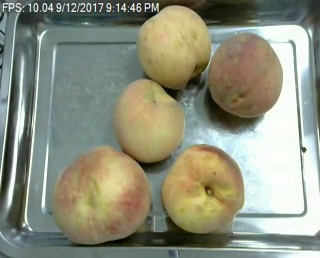Peach: (52, 145, 149, 244), (163, 144, 245, 234), (208, 30, 282, 117), (112, 77, 185, 162), (137, 4, 210, 88)
